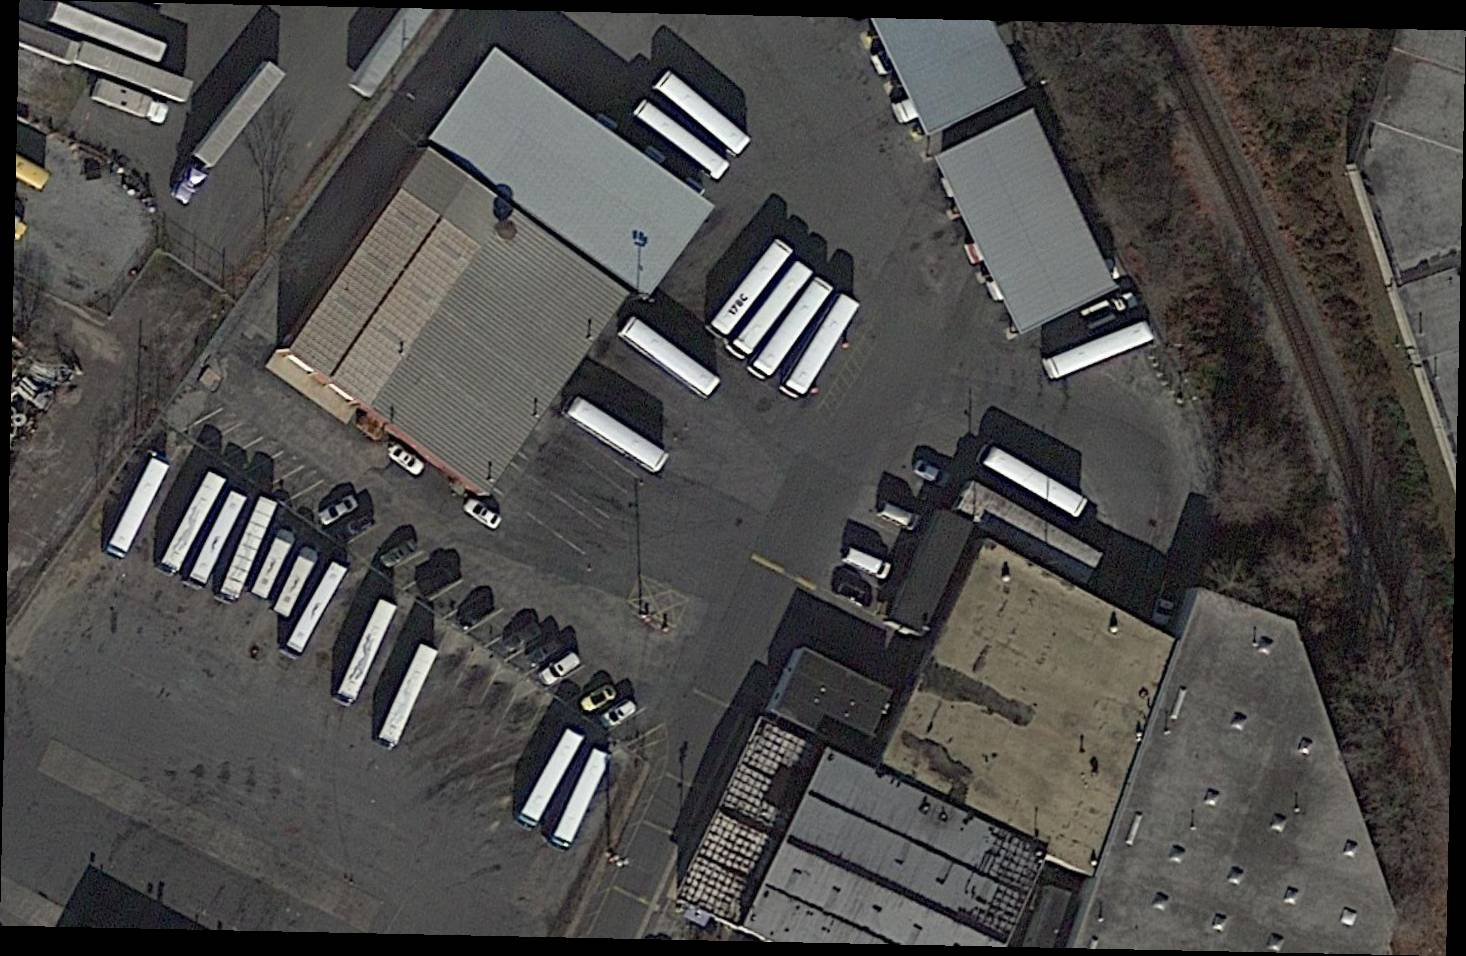large vehicle: (170, 62, 288, 206), (649, 67, 753, 163), (748, 277, 835, 383), (617, 314, 724, 399), (558, 394, 671, 475), (779, 293, 860, 403), (727, 262, 814, 363), (976, 443, 1091, 519), (709, 238, 795, 339), (631, 99, 732, 182), (332, 597, 397, 710), (517, 726, 586, 832), (160, 471, 227, 580), (548, 748, 615, 852), (1043, 322, 1156, 383), (376, 642, 441, 749), (105, 457, 171, 561), (283, 561, 350, 660), (218, 497, 278, 605), (186, 489, 249, 591), (89, 77, 174, 126), (272, 547, 321, 621), (251, 529, 298, 601)
small vehicle: (1077, 285, 1141, 334), (840, 547, 896, 581), (536, 648, 584, 688), (458, 493, 506, 533), (520, 632, 567, 671), (415, 562, 463, 599), (383, 440, 428, 479), (573, 678, 620, 716), (873, 498, 922, 532), (332, 510, 377, 547), (597, 694, 642, 731), (910, 457, 956, 492), (501, 620, 545, 656), (454, 597, 498, 631), (378, 536, 421, 570), (317, 492, 359, 527)
